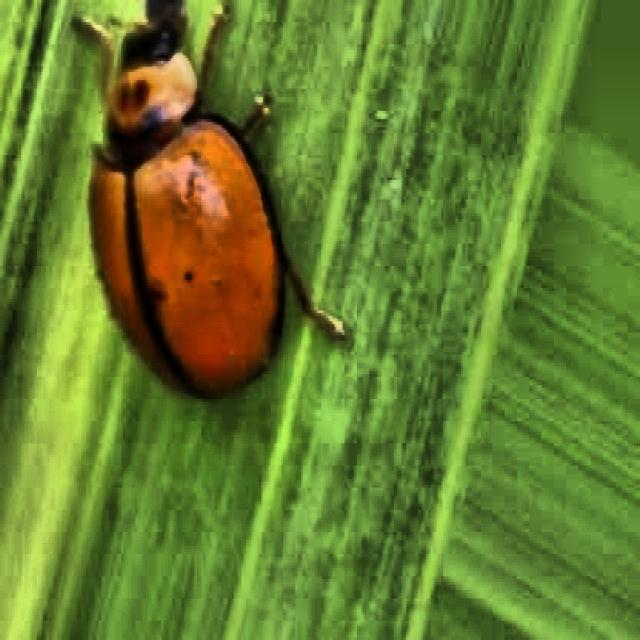Ladybug: (24, 2, 350, 461)
